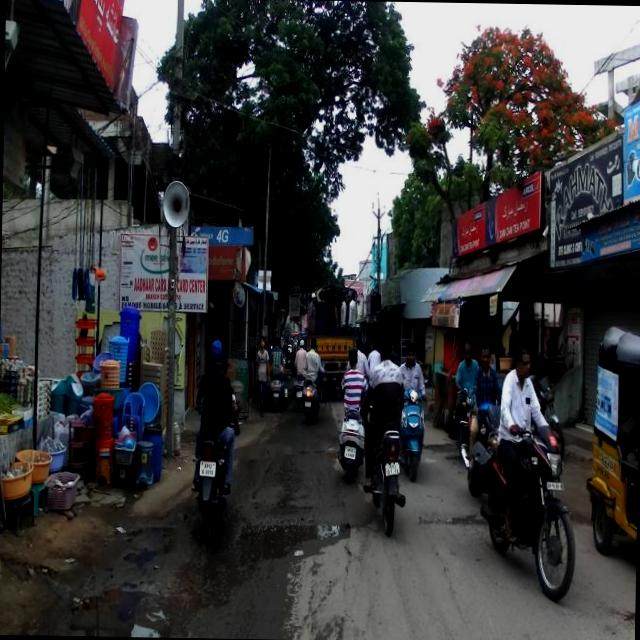pothole: (240, 482, 359, 640), (45, 547, 203, 638), (262, 435, 329, 464), (117, 516, 177, 542)
